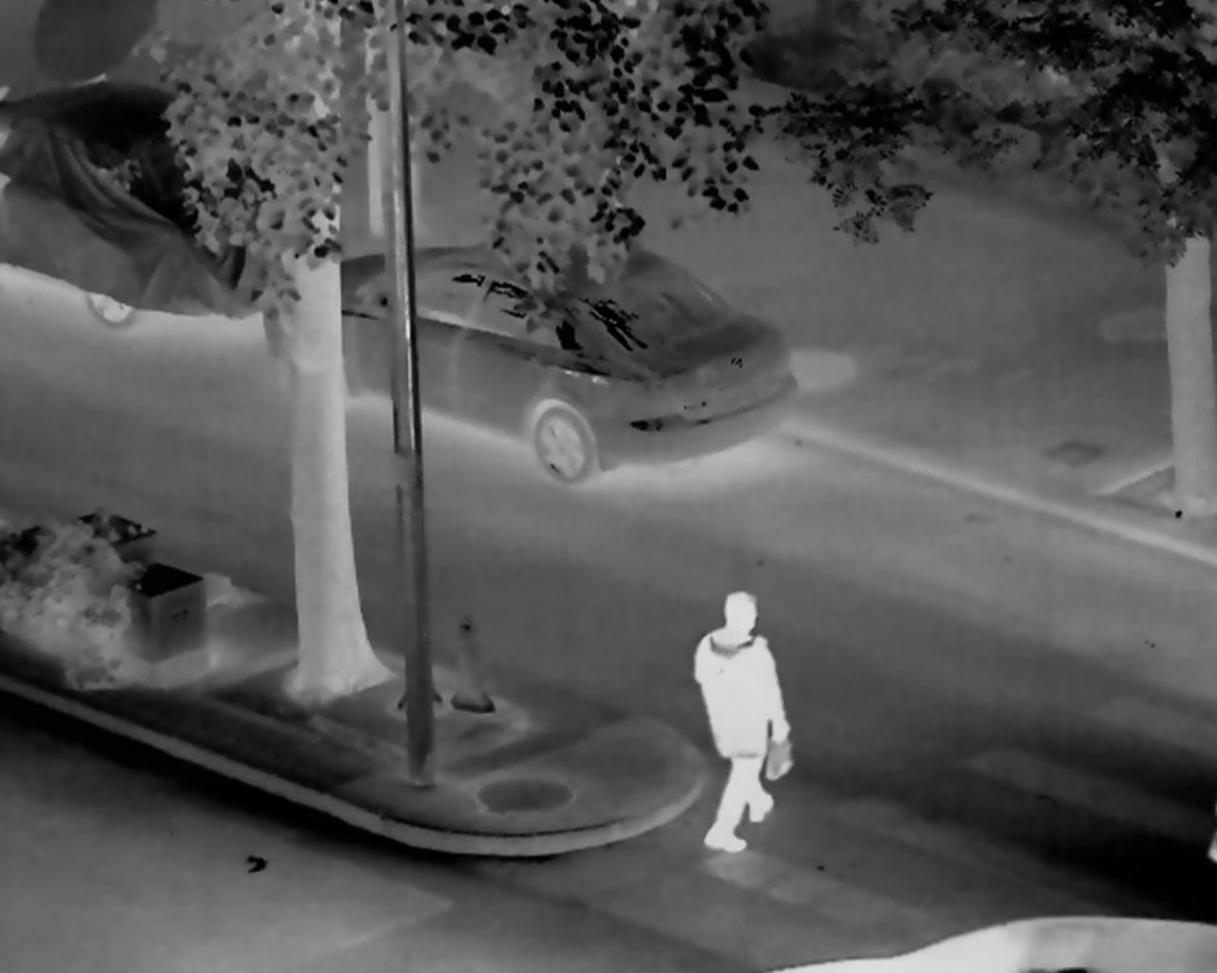person: (692, 591, 792, 852)
